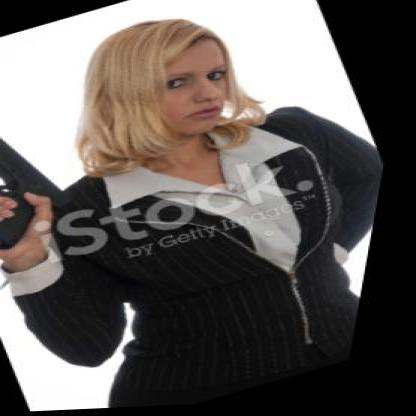pistol: (0, 115, 106, 259)
